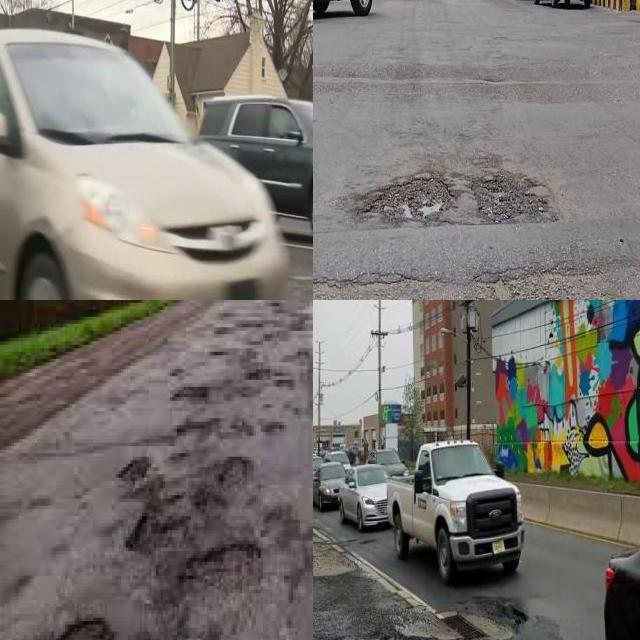Manhole: (442, 614, 487, 640)
Pothole: (360, 177, 456, 225), (179, 544, 263, 593), (470, 174, 545, 222), (450, 595, 531, 635), (462, 596, 528, 631), (123, 509, 151, 558), (59, 618, 113, 640), (216, 457, 254, 488), (114, 457, 151, 485), (172, 383, 212, 401), (247, 366, 275, 383), (358, 538, 378, 544), (344, 537, 359, 543)
Unmarked Bump: (313, 218, 640, 287)
